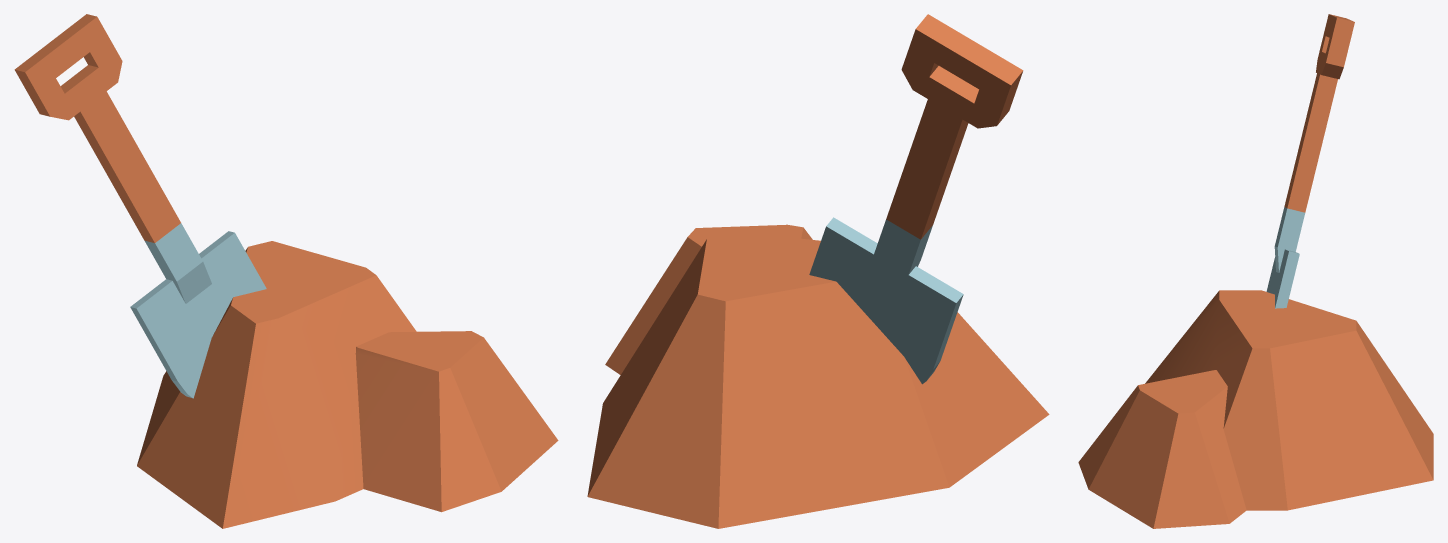
Rendered from shovelDirt.fbx.
3 renders of one model, left to right at view 1: azimuth 30°, elevation 25°; view 2: azimuth 150°, elevation 25°; view 3: azimuth 270°, elevation 25°, orthographic. The views are drawn at different scales.
Parts seen in each view (by area): view 1: shovelDirt; view 2: shovelDirt; view 3: shovelDirt.
Part boxes in pixels (left/top/right/bottom): shovelDirt: left=14, top=14, right=558, bottom=528; shovelDirt: left=587, top=14, right=1049, bottom=528; shovelDirt: left=1078, top=14, right=1433, bottom=528.
Size of the model in its own units: 5.99 by 5.74 by 5.06.
